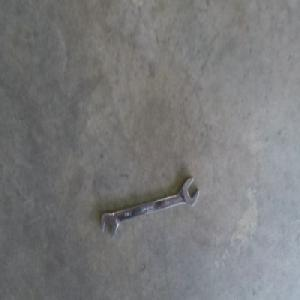Wrench: (100, 177, 198, 239)
